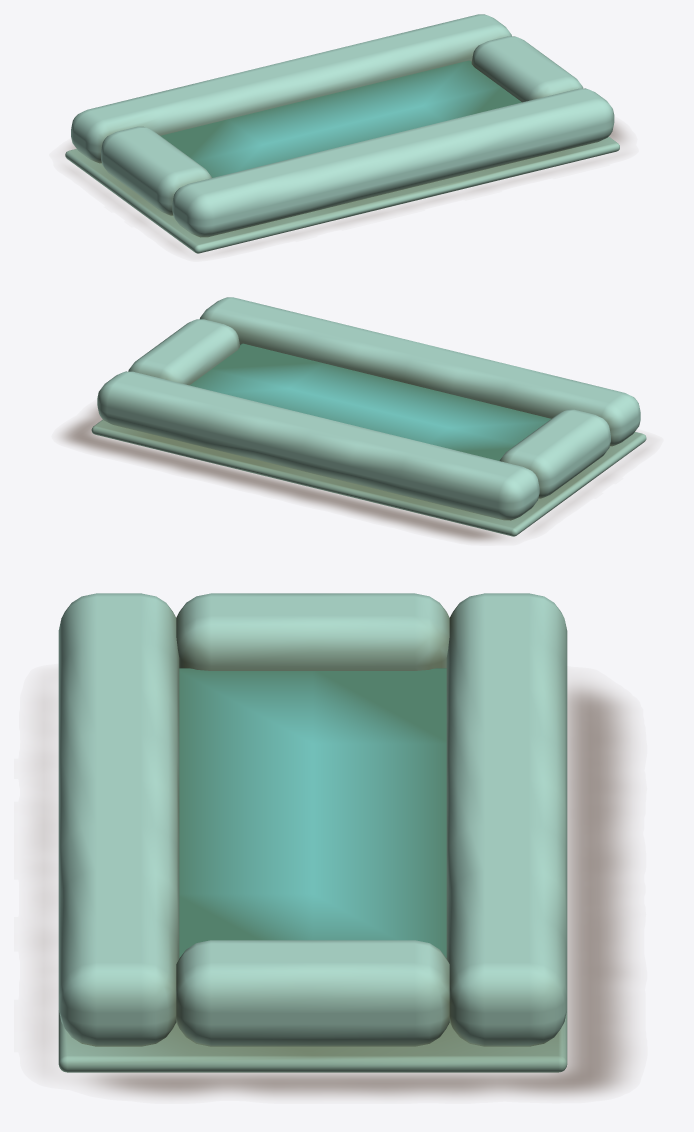
Rendered from pool_kit.glb.
3 renders of one model, top to bottom at view 1: azimuth 30°, elevation 25°; view 2: azimuth 150°, elevation 25°; view 3: azimuth 270°, elevation 25°, orthographic. The views are drawn at different scales.
Visible parts, largest first — view 1: rim_front, rim_back, water, pool_base, rim_left, rim_right, baked_shadow; view 2: rim_back, rim_front, water, pool_base, baked_shadow, rim_left, rim_right; view 3: water, rim_front, rim_back, baked_shadow, rim_right, rim_left, pool_base.
Part boxes in pixels (<box>): rim_front: <box>172,88,614,237</box>; rim_back: <box>71,14,511,163</box>; water: <box>160,60,521,177</box>; pool_base: <box>65,136,619,253</box>; rim_left: <box>101,126,211,215</box>; rim_right: <box>471,36,583,102</box>; baked_shadow: <box>69,123,625,246</box>; rim_back: <box>97,371,539,520</box>; rim_front: <box>200,297,640,446</box>; water: <box>189,343,551,460</box>; pool_base: <box>91,419,646,536</box>; baked_shadow: <box>61,406,639,541</box>; rim_left: <box>499,409,610,498</box>; rim_right: <box>128,319,239,385</box>; water: <box>179,668,446,957</box>; rim_front: <box>58,593,179,1046</box>; rim_back: <box>446,593,567,1046</box>; baked_shadow: <box>39,685,629,1096</box>; rim_right: <box>176,940,449,1046</box>; rim_left: <box>176,593,449,670</box>; pool_base: <box>58,1010,567,1072</box>.
Size of the model in its own units: 8.56 by 0.84 by 5.23.
5 materials, 1 textured.
